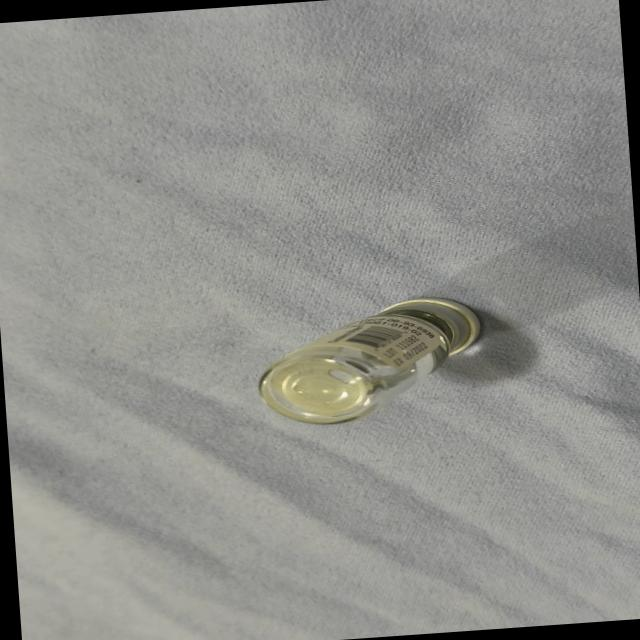fentanl_citrat: (256, 294, 484, 426)
